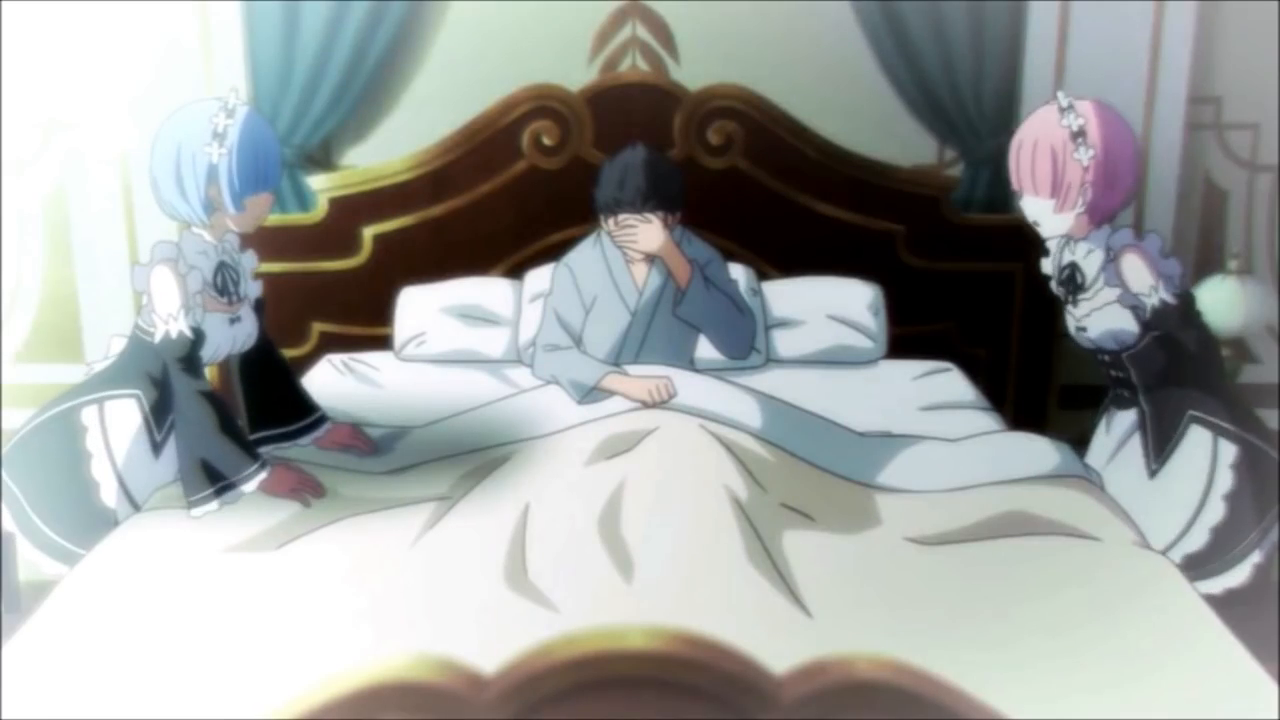REM: (142, 81, 285, 243)
